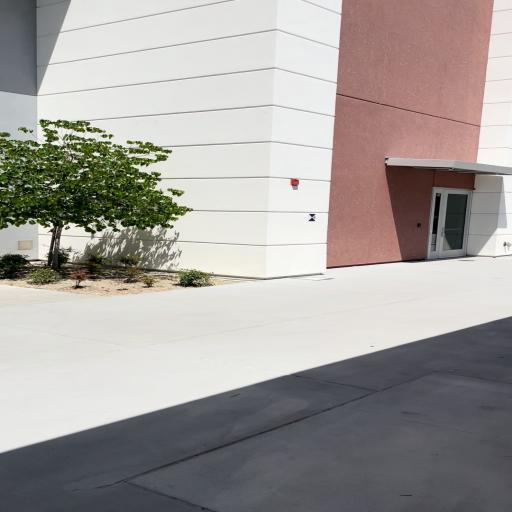target6: (307, 214, 316, 221)
